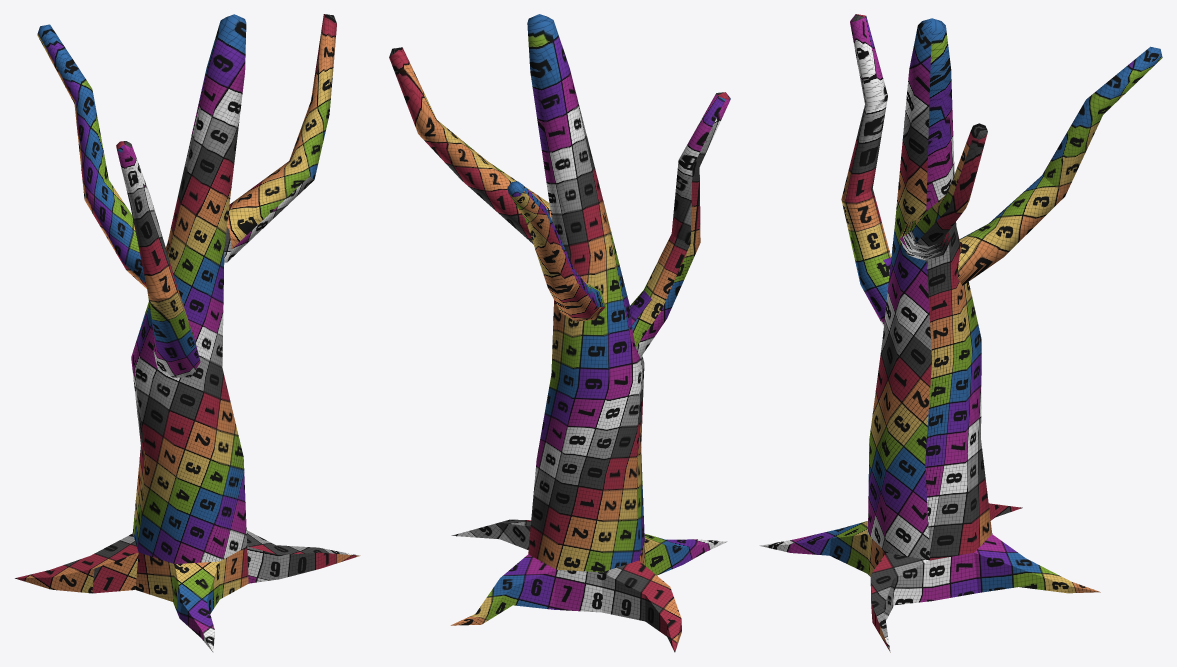
Rendered from TreeTrunk.FBX.
3 renders of one model, left to right at view 1: azimuth 30°, elevation 25°; view 2: azimuth 150°, elevation 25°; view 3: azimuth 270°, elevation 25°, orthographic. The views are drawn at different scales.
Visible parts, largest first — view 1: Tree; view 2: Tree; view 3: Tree.
Part boxes in pixels (box(x1,y1,x2,y2)): Tree: box(15, 14, 360, 652); Tree: box(389, 14, 730, 652); Tree: box(759, 14, 1162, 652).
Bounding box in the file's own units: 90.82 × 160 × 101.
